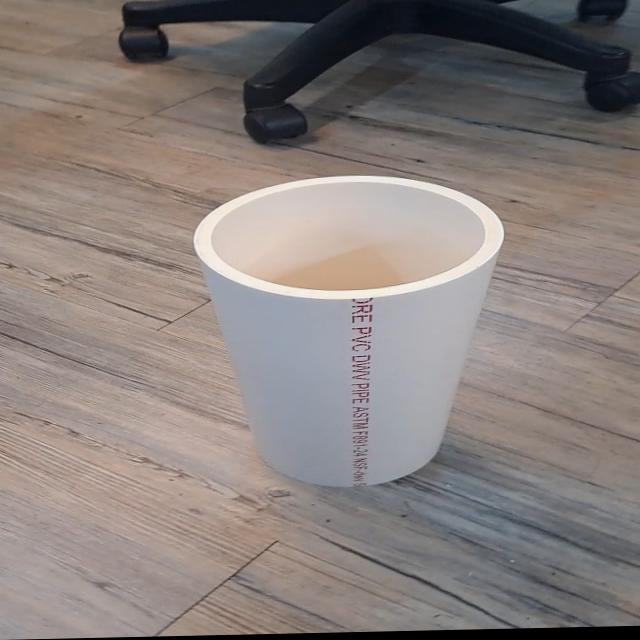CORAL: (188, 156, 526, 499)
